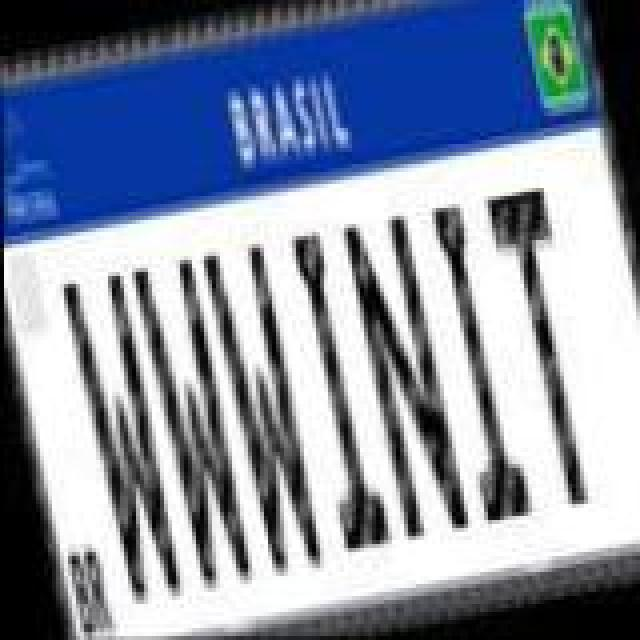I: (278, 224, 394, 556), (418, 200, 534, 532)
N: (336, 210, 472, 546)
T: (480, 182, 608, 514)
W: (60, 268, 192, 612), (126, 250, 258, 594), (194, 238, 326, 582)
